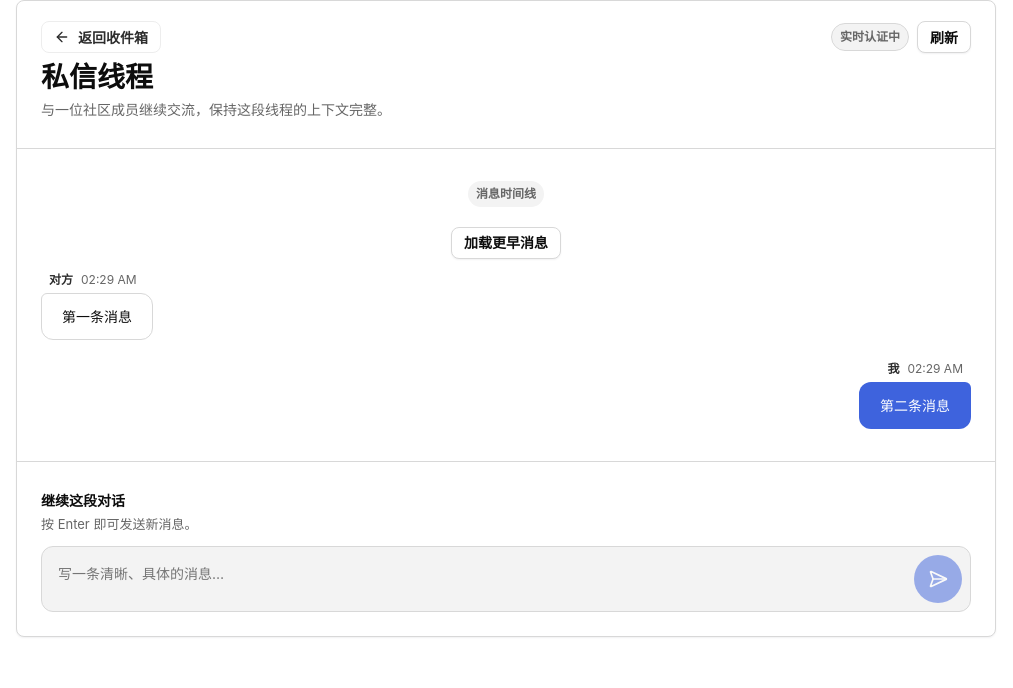
Test case: ConversationDetailView › does not send or clear the composer before realtime authentication completes
The image size is (1013, 688).
Type "还没认证" into the text box with placeholder "写一条清晰、具体的消息…".
click(478, 579); type("还没认证")  # box [50,555,906,603]
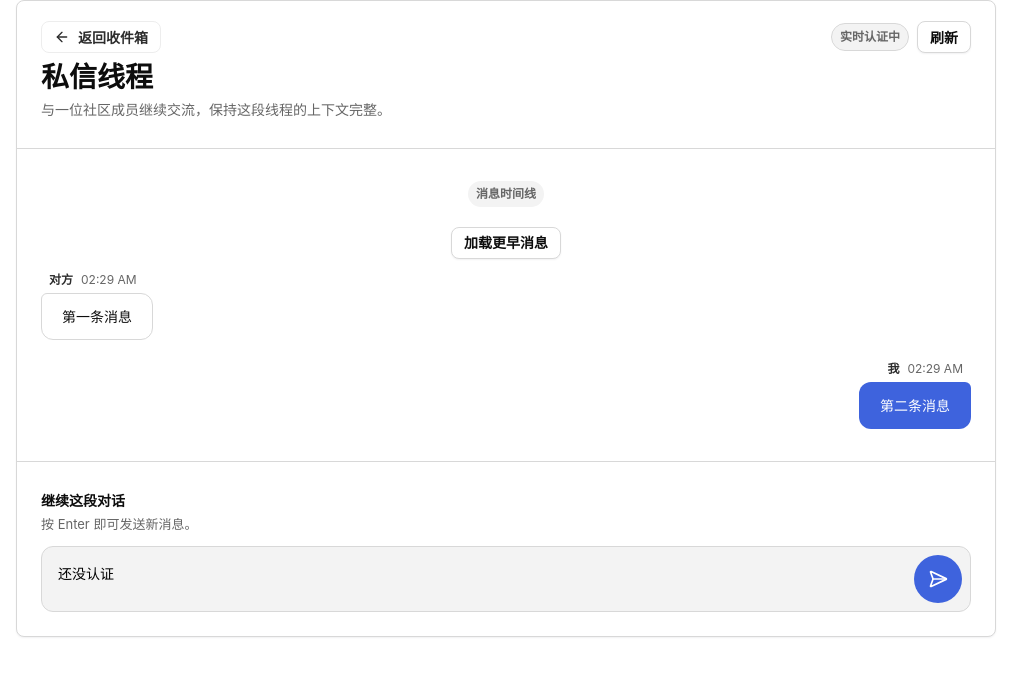
Click the button named "发送消息".
click(938, 579)  # box [914,555,962,603]
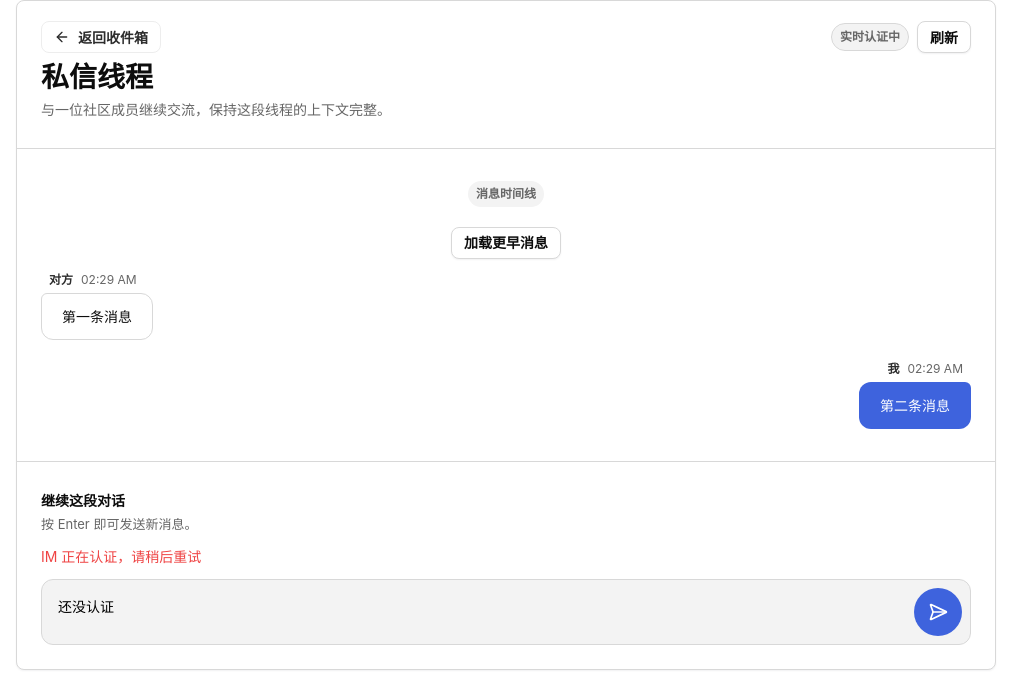
Expected: the text "IM 正在认证，请稍后重试" is shown, [41,548,201,565]
